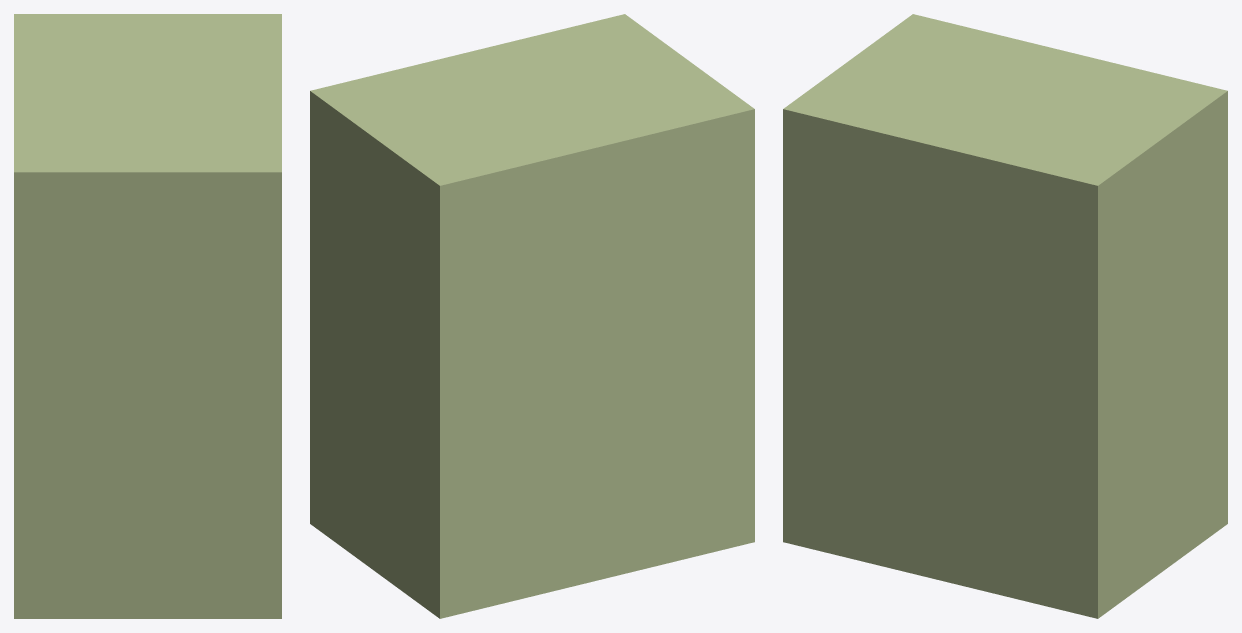
Rendered from ground_20.gltf.
The picture shows the model from 3 angles, left to right: view 1: azimuth 30°, elevation 25°; view 2: azimuth 150°, elevation 25°; view 3: azimuth 270°, elevation 25°; orthographic projection. The views are drawn at different scales.
Parts seen in each view (by area): view 1: industry_university; view 2: industry_university; view 3: industry_university.
Part boxes in pixels (<box>): industry_university: <box>14,14,281,618</box>; industry_university: <box>310,14,754,618</box>; industry_university: <box>783,14,1227,618</box>.
Bounding box in the file's own units: 7.88 × 9.26 × 8.62.
